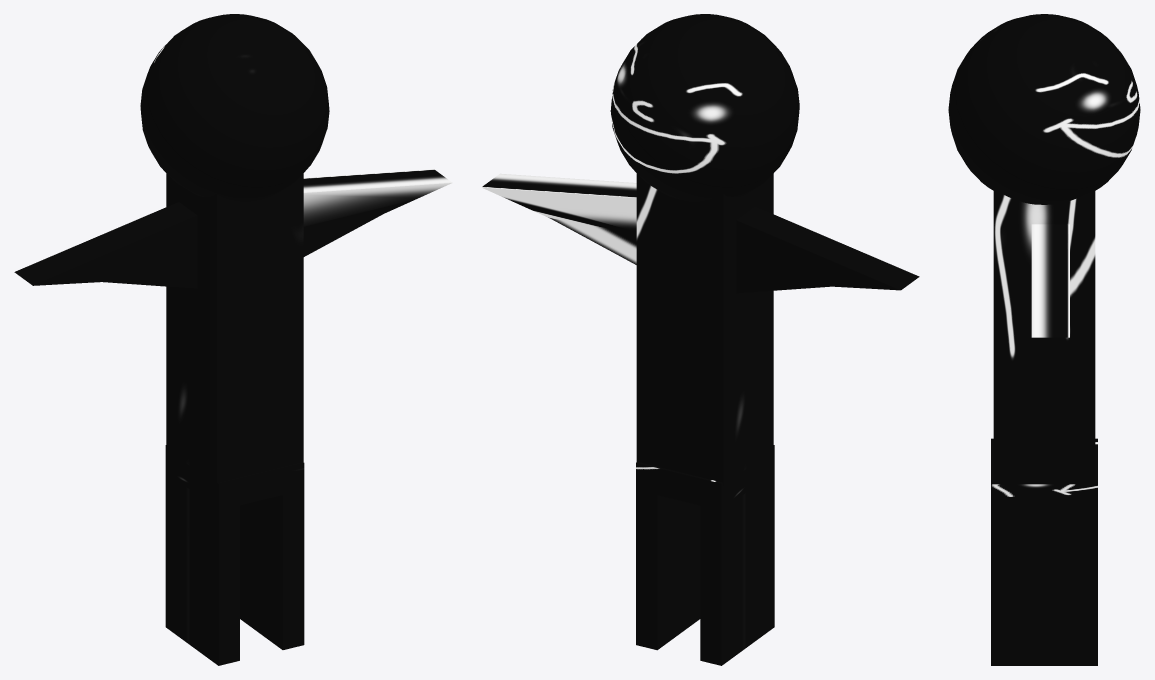
File: Shawty1.glb
3 views of the same model, side by side, from view 1: azimuth 30°, elevation 25°; view 2: azimuth 150°, elevation 25°; view 3: azimuth 270°, elevation 25° (orthographic).
Visible parts, largest first — view 1: Sphere; view 2: Sphere; view 3: Sphere.
Part boxes in pixels (x1,y1,x2,y2): Sphere: [14, 14, 452, 665]; Sphere: [481, 14, 919, 665]; Sphere: [948, 14, 1140, 665].
Size of the model in its own units: 5.12 by 7.15 by 2.
1 material, 1 textured.
